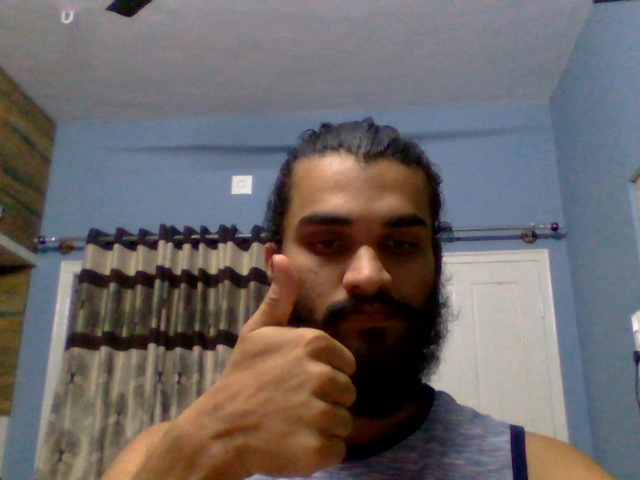ThumbsUp: (214, 252, 360, 480)
